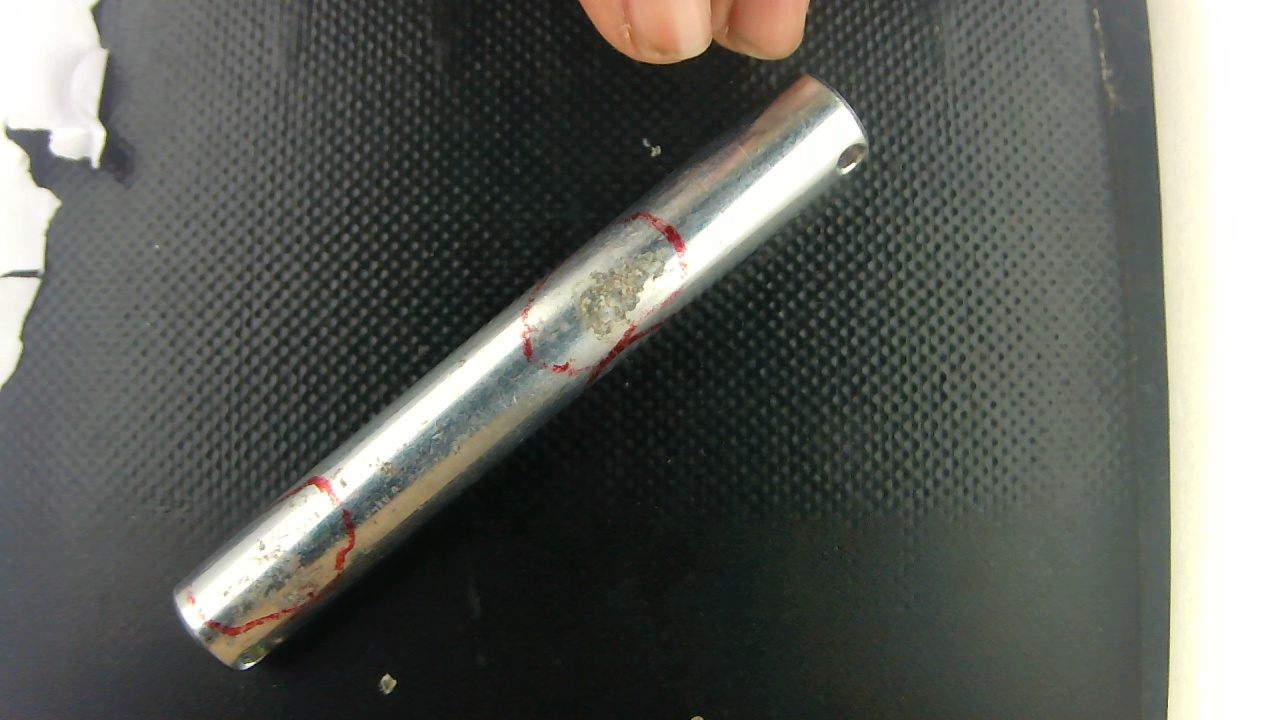whiterust_pin: (209, 487, 320, 625)
